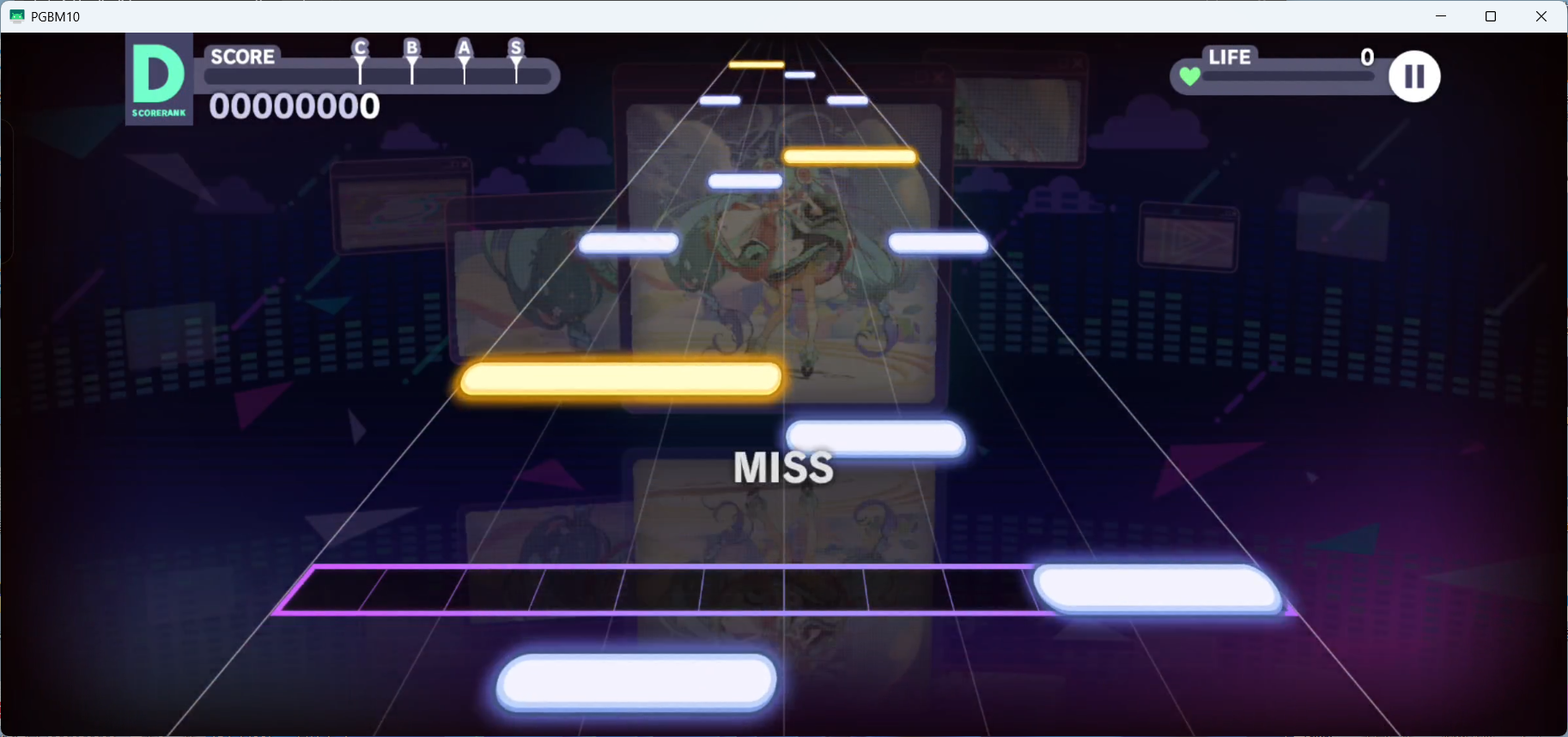tap: (495, 653, 776, 710), (1031, 561, 1282, 612), (460, 361, 781, 396), (787, 420, 966, 459), (889, 233, 988, 255), (784, 149, 917, 164), (578, 233, 678, 252), (707, 173, 783, 190), (727, 60, 785, 69), (826, 95, 868, 106), (698, 95, 740, 105), (784, 71, 816, 78)
